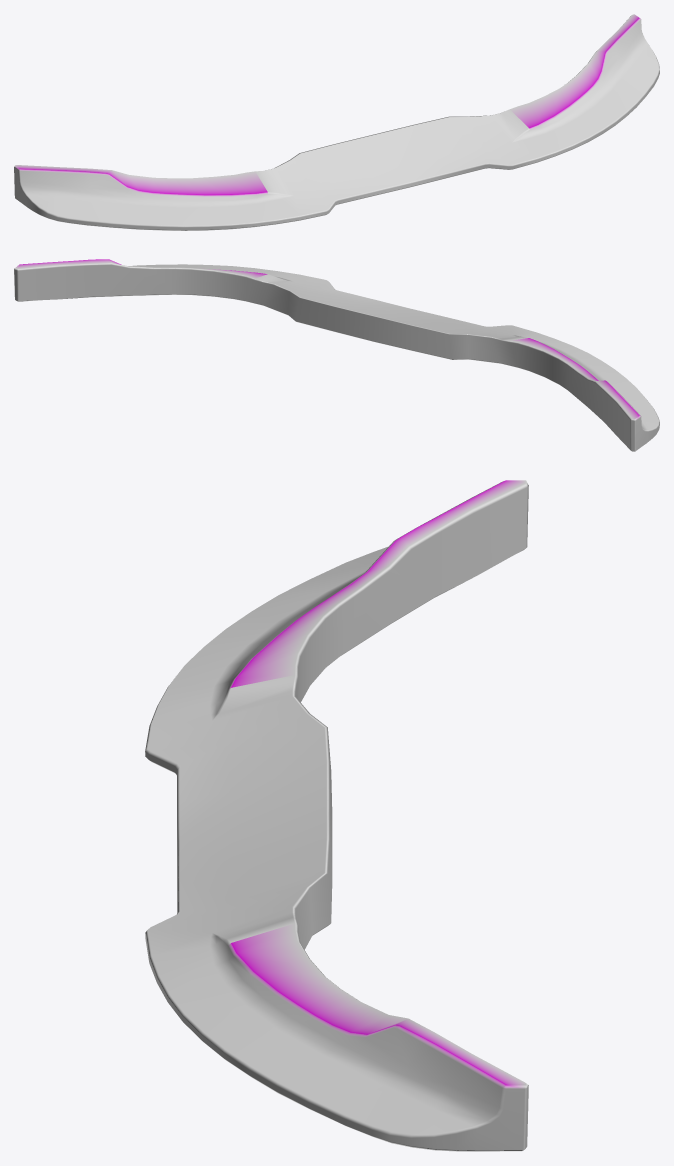
Rendered from Car_Mini_CountrymanJCW_2017_Splitter_SetC_AltF.fbx.
3 renders of one model, top to bottom at view 1: azimuth 30°, elevation 25°; view 2: azimuth 150°, elevation 25°; view 3: azimuth 270°, elevation 25°, orthographic. The views are drawn at different scales.
Visible parts, largest first — view 1: Splitter 6; view 2: Splitter 6; view 3: Splitter 6.
Boxes of the visible parts, <box> form: Splitter 6: <box>14,14,659,230</box>; Splitter 6: <box>14,259,659,451</box>; Splitter 6: <box>145,480,528,1151</box>.
Bounding box in the file's own units: 1.98 × 0.1069 × 0.5293.
